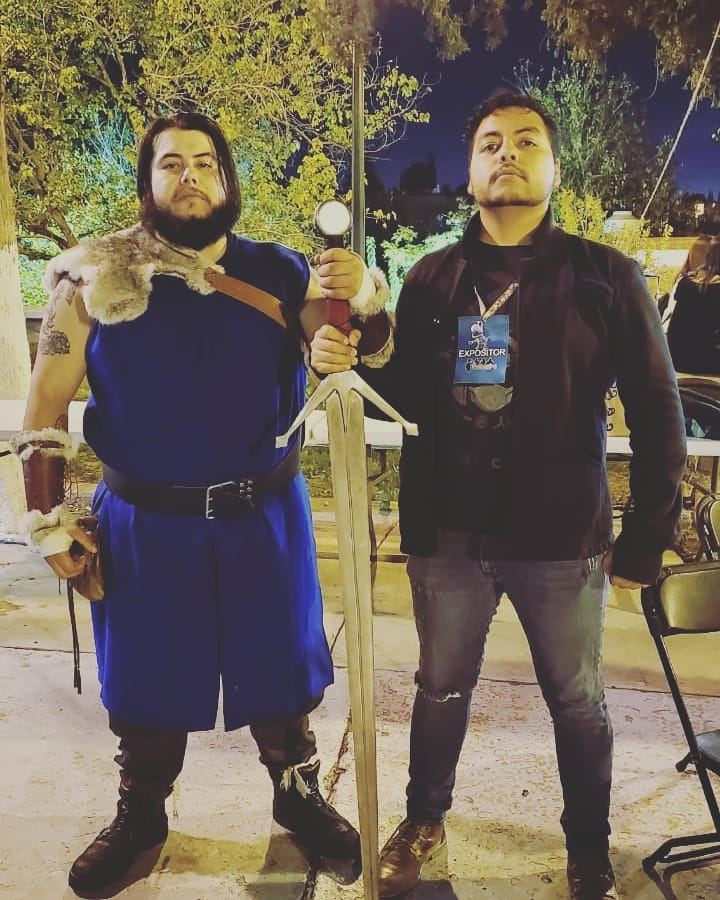Yoshi: (355, 79, 687, 693)
